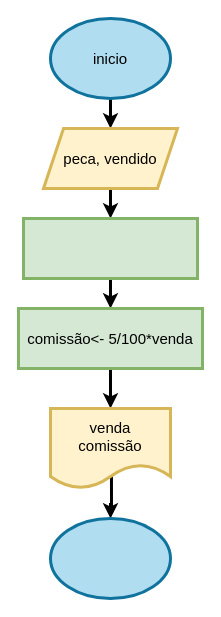
The diagram is 221 pixels wide and 617 high, and some of its shapes have lost their labels. The shapes that lost their labels are listed below. From the top down, each one's centre as x and y in pixels, then its label:
At [110,248]: "venda<- peca*vendidos".
At [110,558]: "fim".
